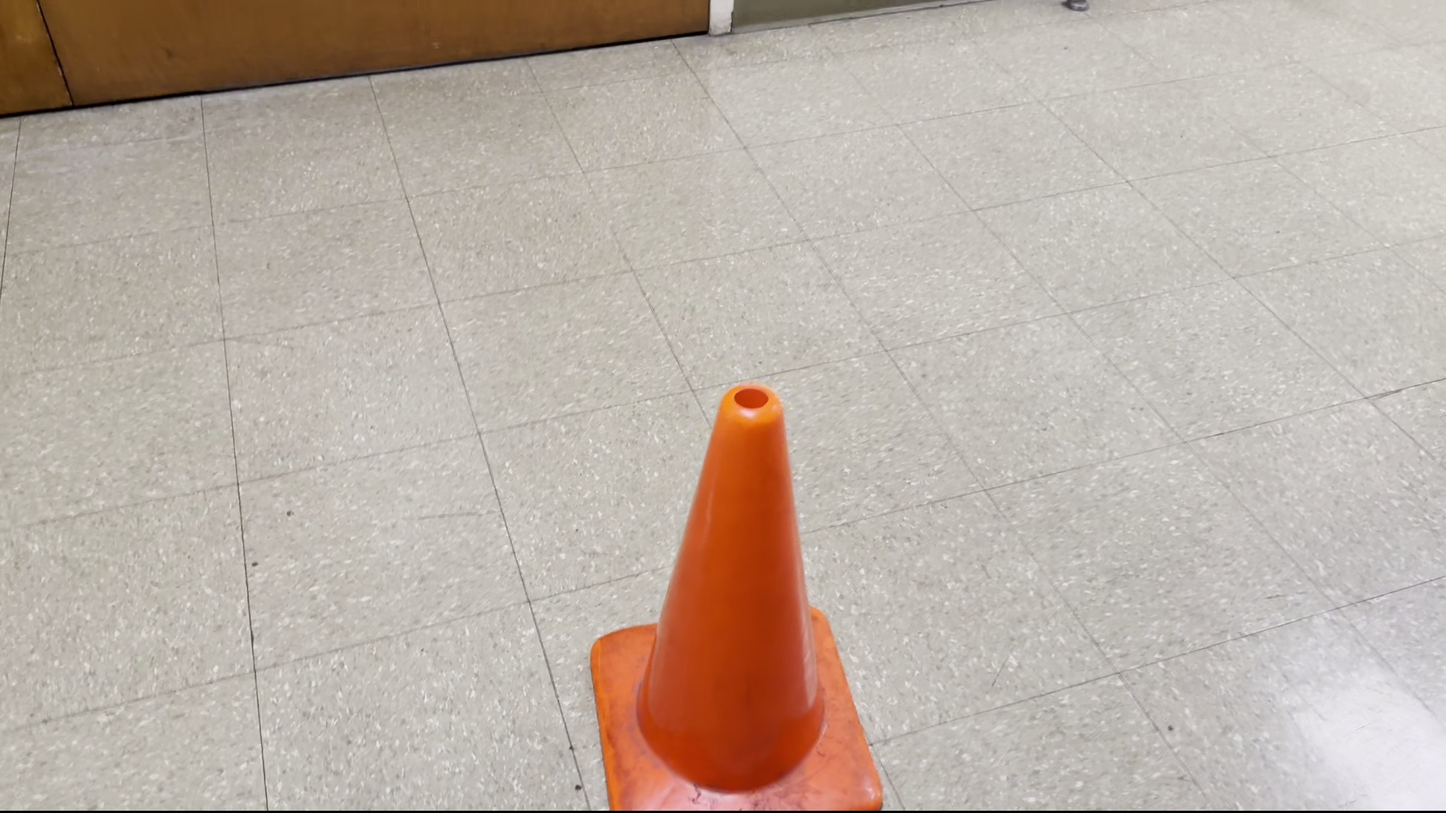traffic_cone: (589, 382, 883, 811)
